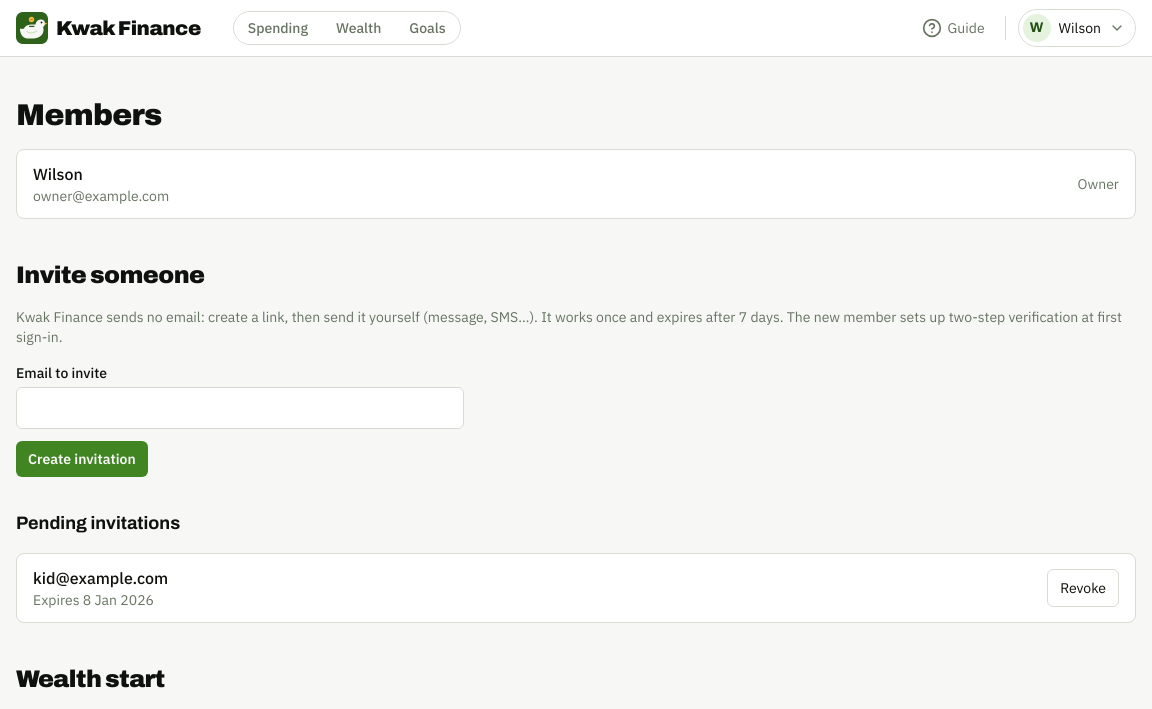
it: the owner can revoke a pending invitation
Click the button with aria-label "Revoke invitation for kid@example.com". click: x=1083, y=588
box: x1=1047 y1=569 x2=1119 y2=607
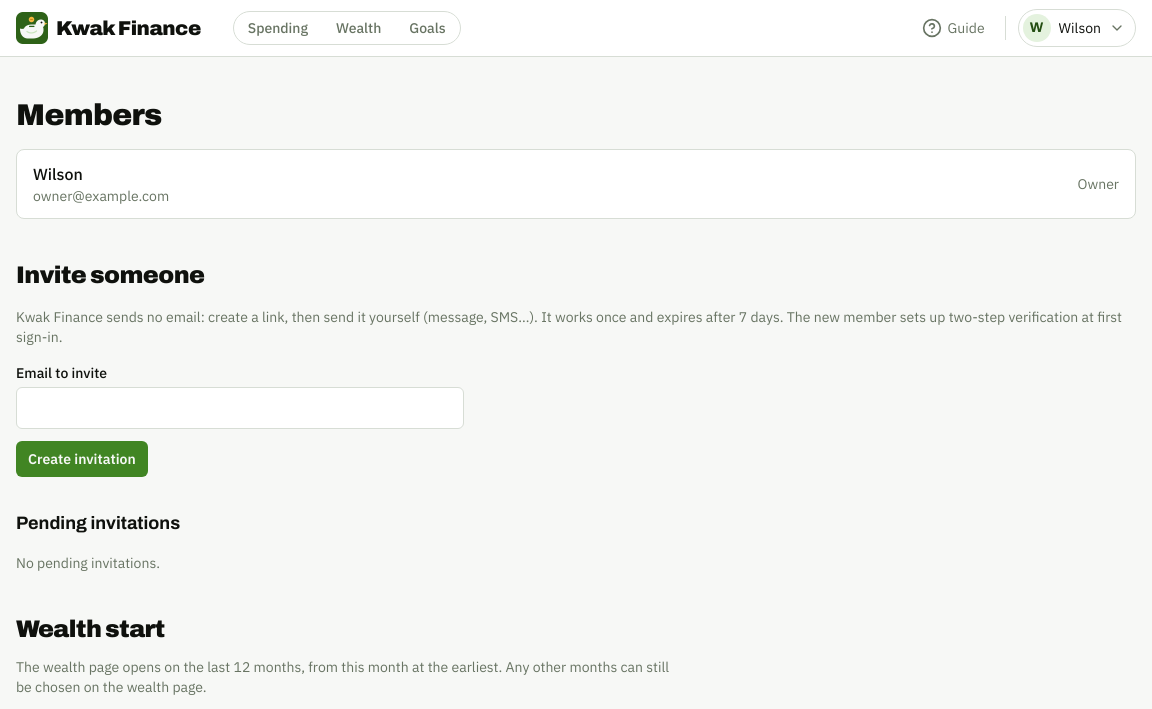
Expected: the text "No pending invitations." is shown, x1=16 y1=554 x2=160 y2=572
